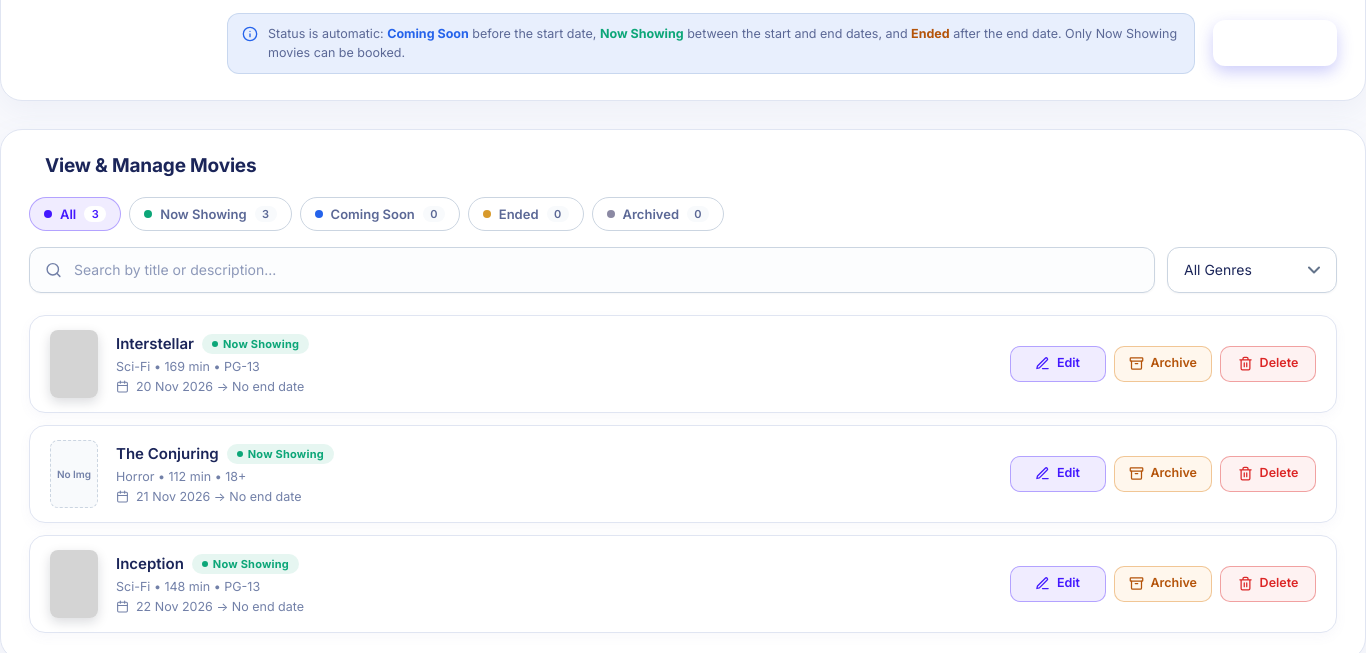
Test case: Admin Movies Page › should filter movies by selected genre
(page scrolled)
Expected: the text "Interstellar" is shown, [116,334,194,353]
Select "Horror" in the dropdown named "Filter by genre" at (1252, 270), box [1167,247,1337,293]
(page scrolled)
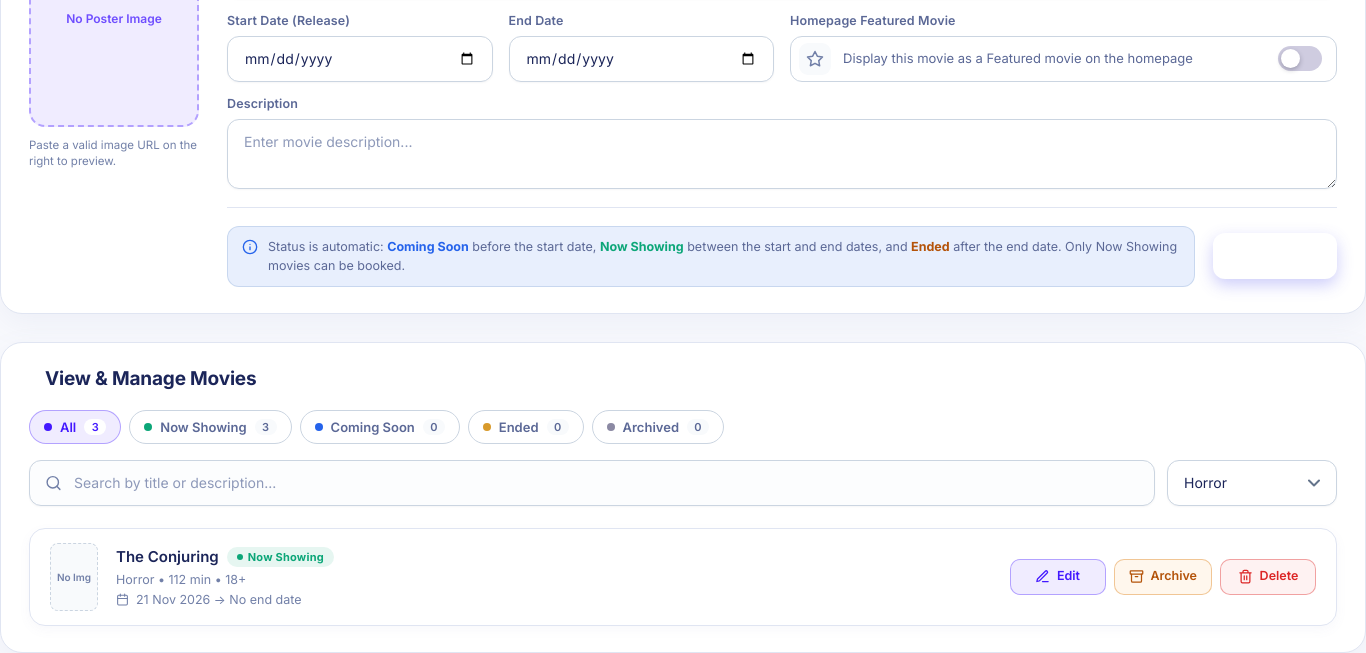
Expected: the text "The Conjuring" is shown, [116,547,219,566]
Expected: the text "Interstellar" is gone
Expected: the text "Inception" is gone
